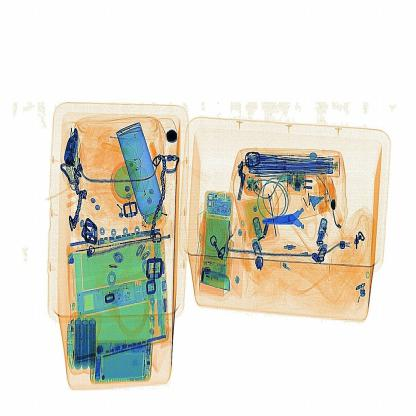gun: (258, 198, 326, 250)
